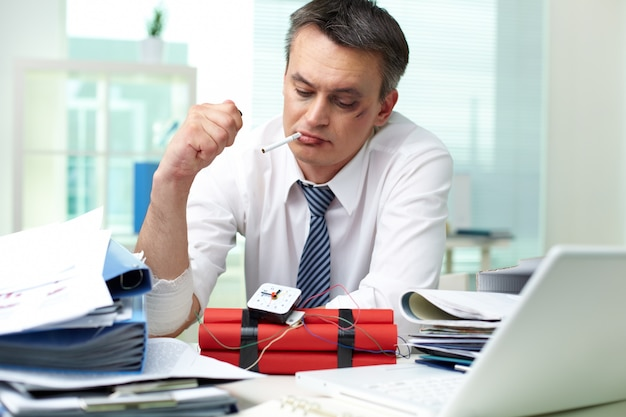cigarette: (261, 131, 303, 154)
